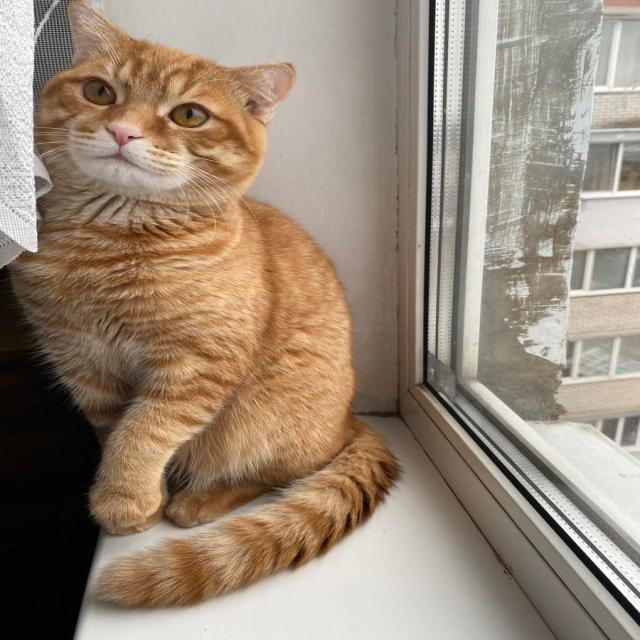british shorthair: (0, 0, 526, 595)
sarman: (0, 0, 526, 595)
